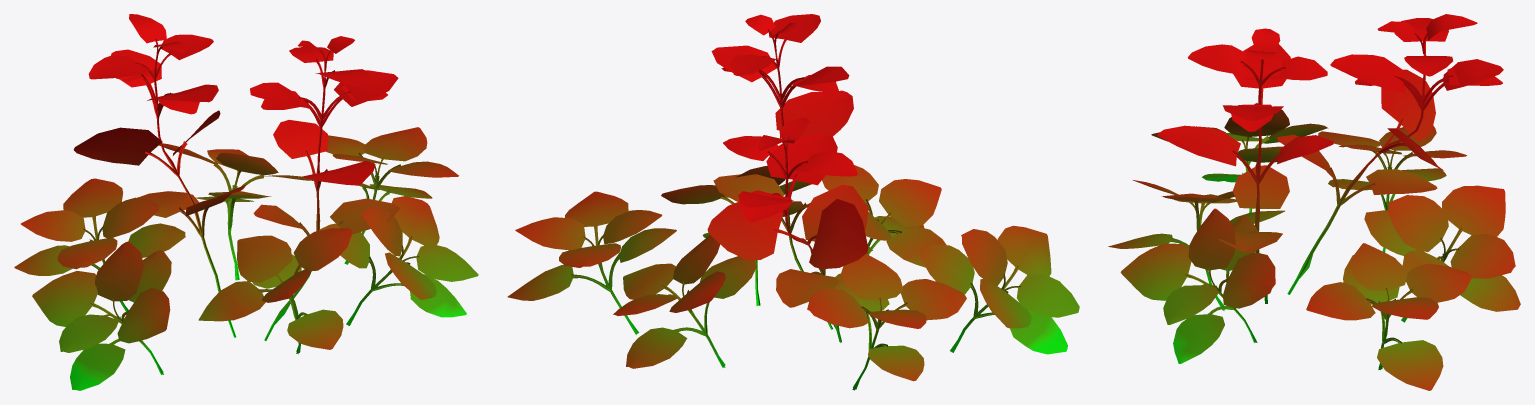
The model's file is Yellow Archangel_LOD0_Var5_wcwmcfvia.fbx.
3 renders of one model, left to right at view 1: azimuth 30°, elevation 25°; view 2: azimuth 150°, elevation 25°; view 3: azimuth 270°, elevation 25°, orthographic. The views are drawn at different scales.
Parts seen in each view (by area): view 1: _n3hn_Var5_LOD0; view 2: _n3hn_Var5_LOD0; view 3: _n3hn_Var5_LOD0.
Part boxes in pixels (x1=…): _n3hn_Var5_LOD0: x1=14, y1=14, x2=478, y2=390; _n3hn_Var5_LOD0: x1=507, y1=14, x2=1079, y2=390; _n3hn_Var5_LOD0: x1=1108, y1=14, x2=1520, y2=390.
Bounding box in the file's own units: 12.85 × 7.68 × 9.7.
